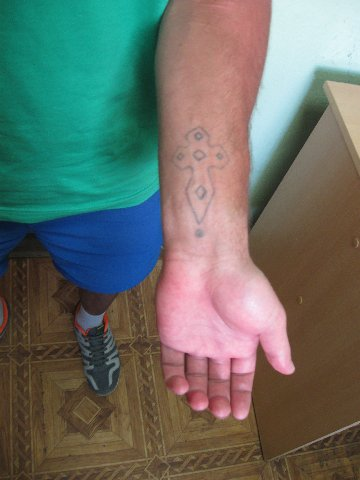tatu9_krest: (169, 123, 230, 226)
